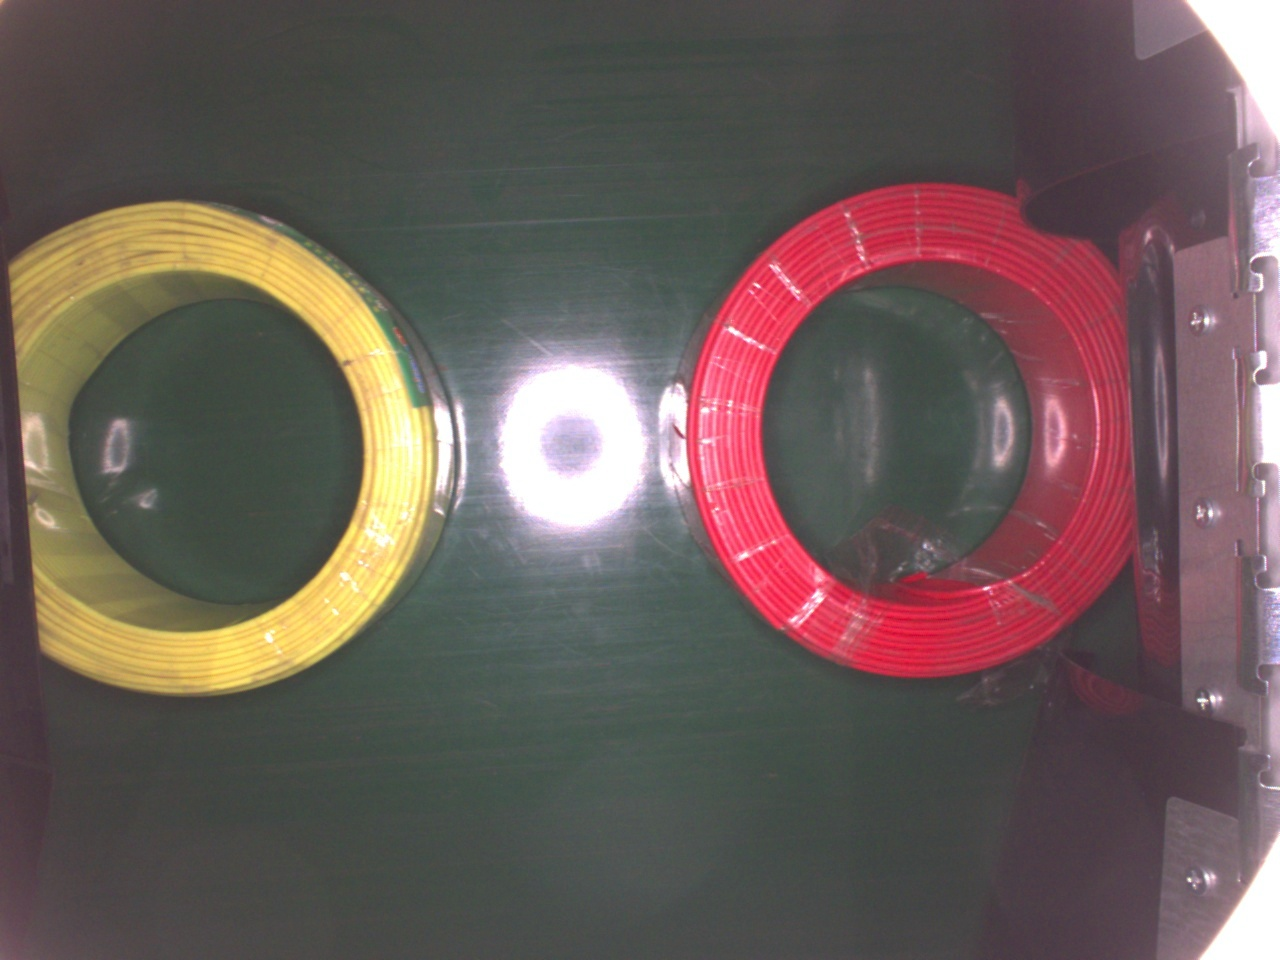red: (680, 184, 1147, 681)
yellow: (0, 196, 462, 704)
